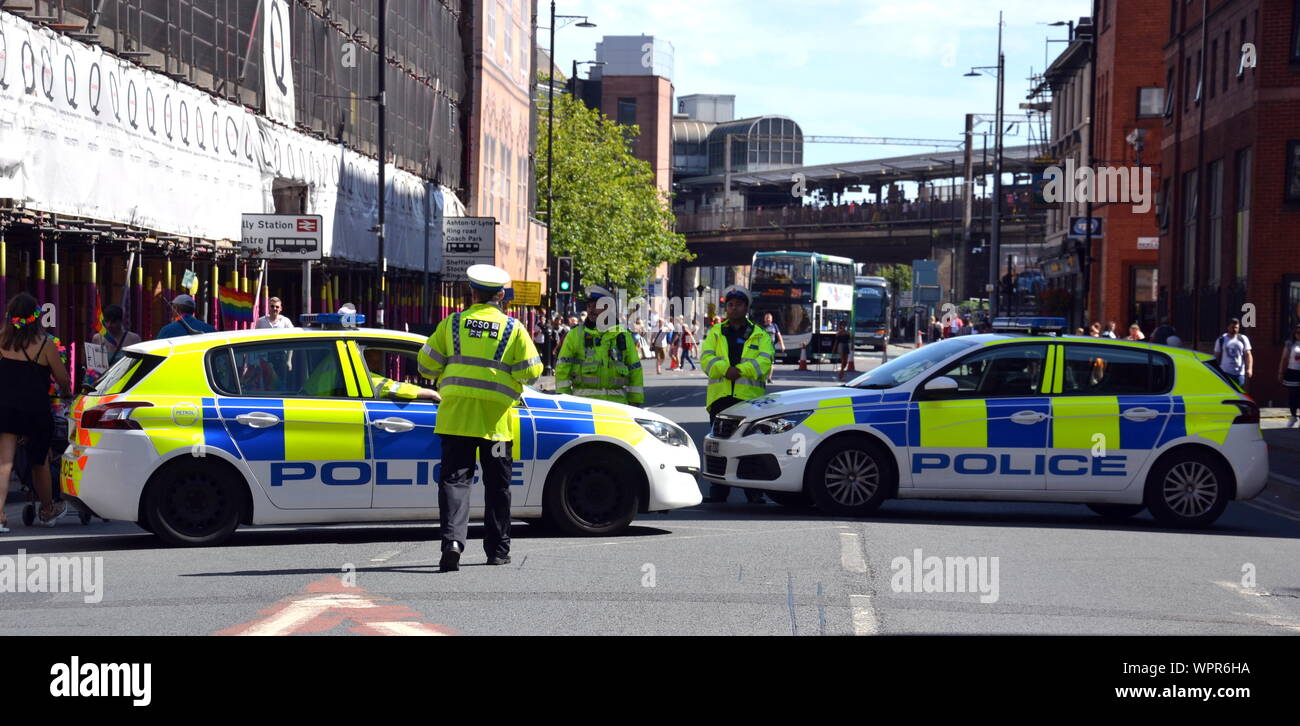Car: (54, 322, 726, 547), (725, 337, 1271, 514)
Person: (418, 253, 528, 572), (696, 291, 775, 398)
